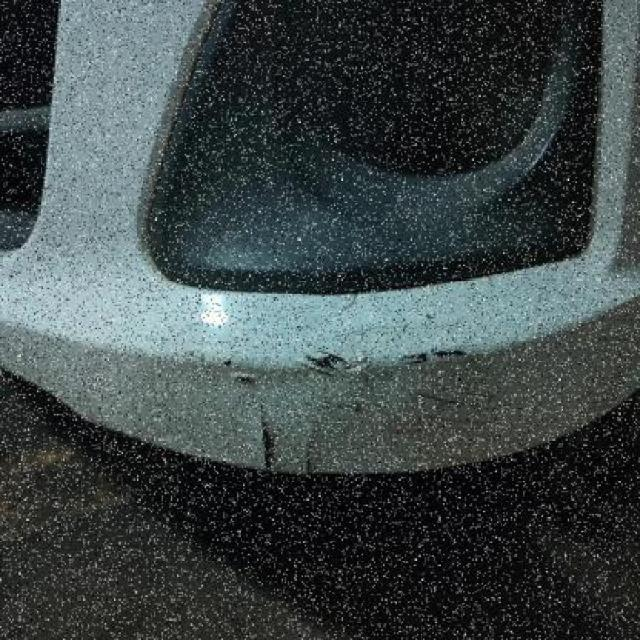front-bumper-dent: (115, 5, 617, 489)
